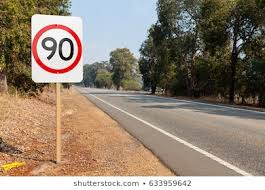sp90: (29, 24, 88, 73)
